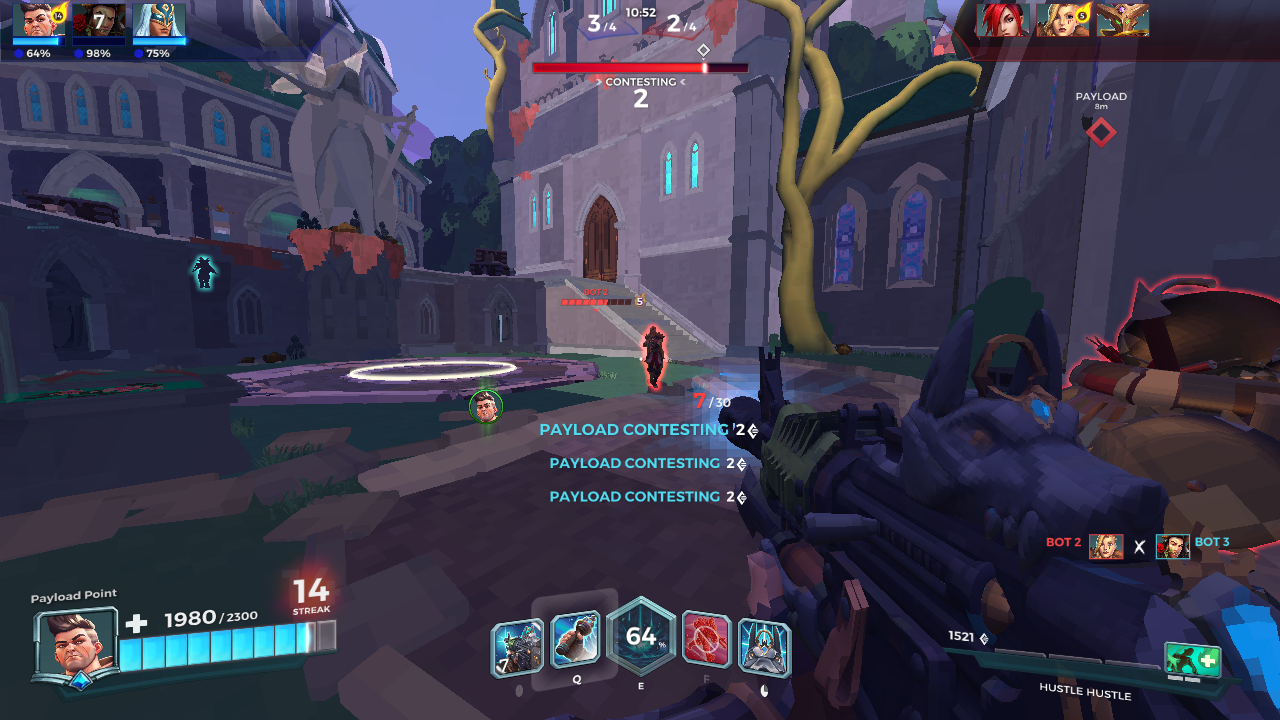model: (642, 320, 666, 388)
